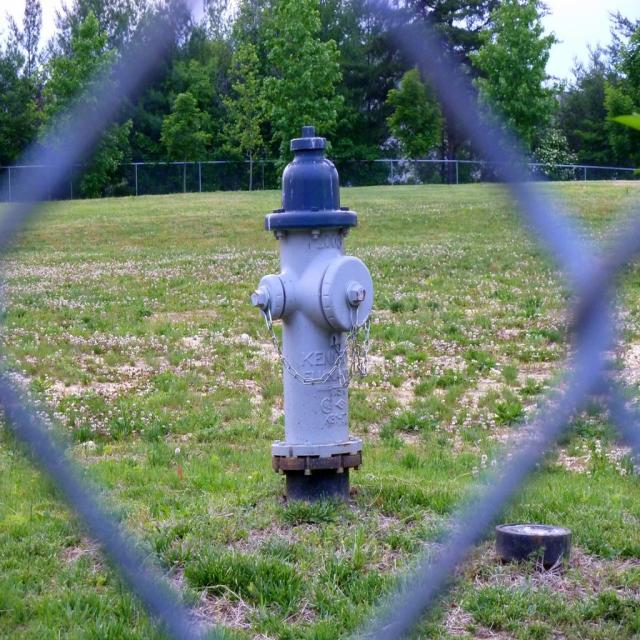fire_hydrant: (252, 126, 376, 503)
